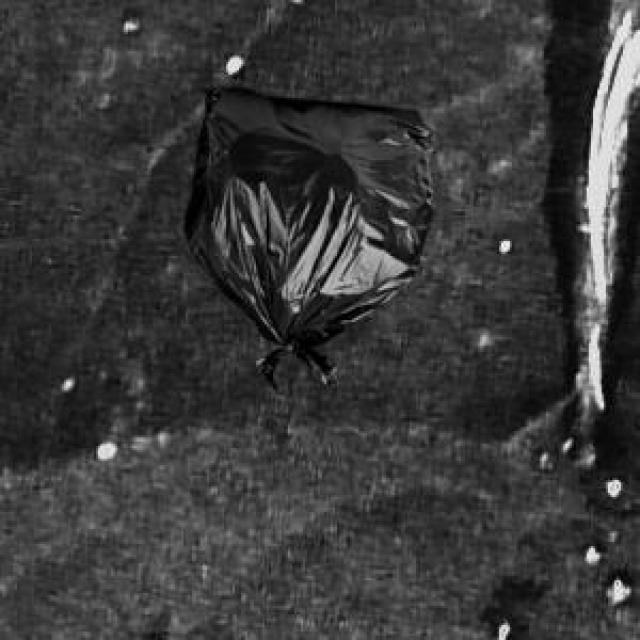miscellaneous trash: (179, 85, 431, 386)
